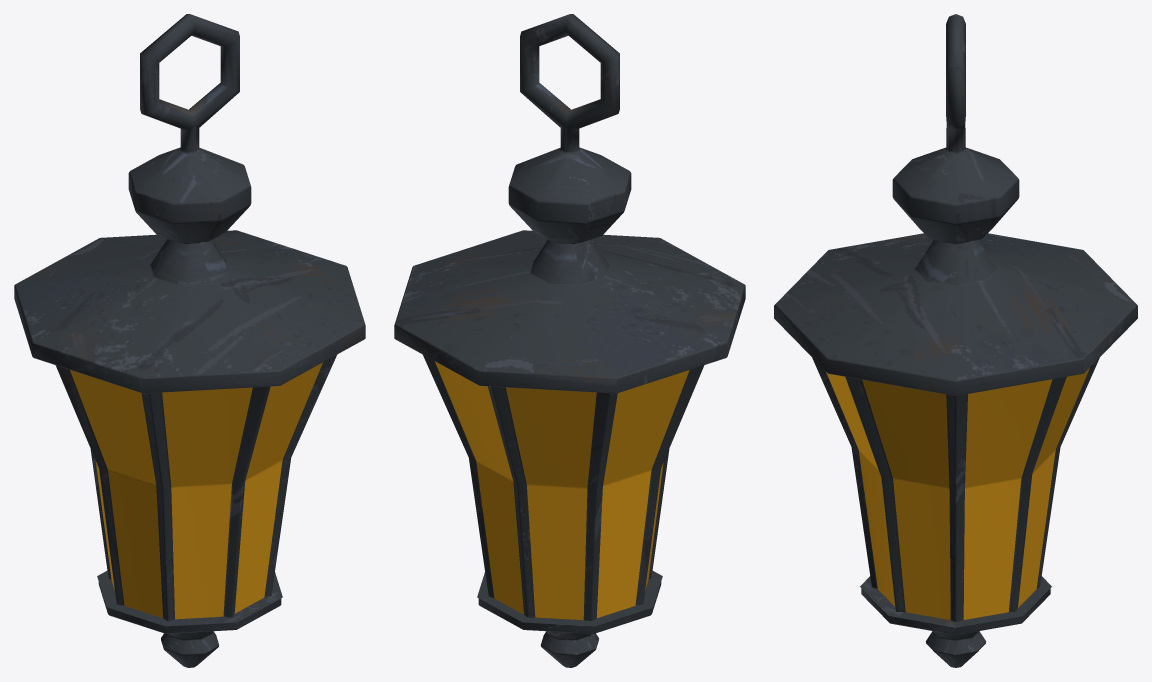
The model's file is lantern.glb.
The picture shows the model from 3 angles, left to right: view 1: azimuth 30°, elevation 25°; view 2: azimuth 150°, elevation 25°; view 3: azimuth 270°, elevation 25°; orthographic projection.
Parts seen in each view (by area): view 1: Lantern; view 2: Lantern; view 3: Lantern.
Part boxes in pixels (x1,y1,x2,y2): Lantern: (14, 14, 365, 667); Lantern: (394, 14, 745, 667); Lantern: (774, 14, 1137, 667).
Bounding box in the file's own units: 0.4658 × 0.9198 × 0.4658.
2 materials, 1 textured.
